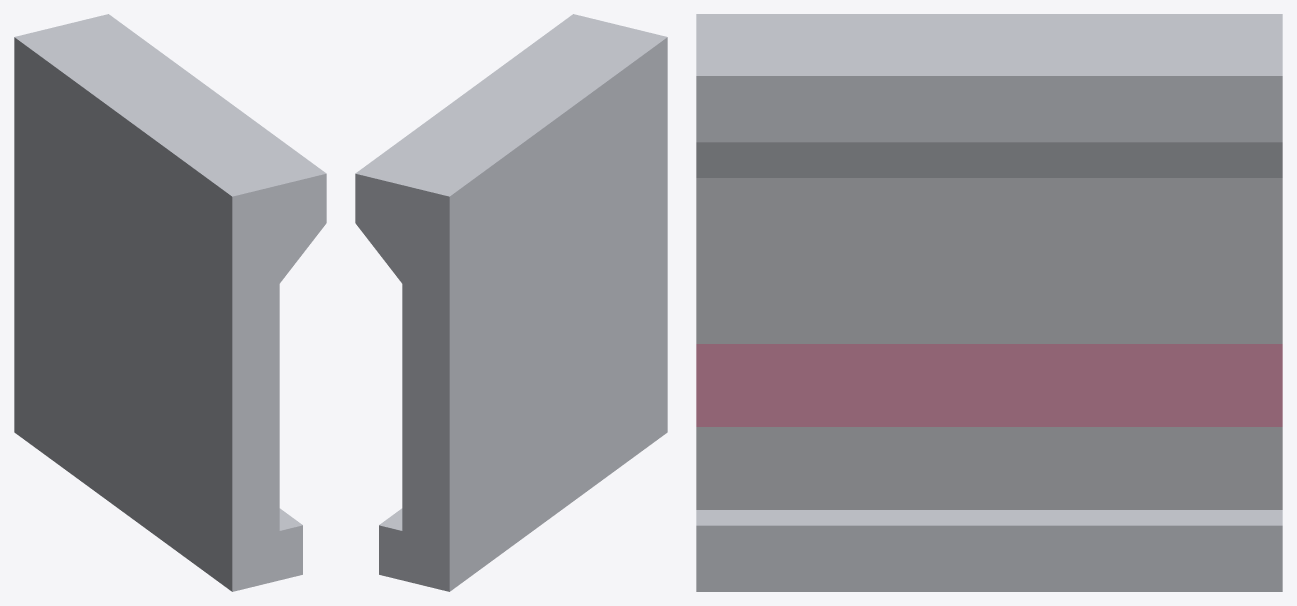
Rendered from object_007_stripe.glb.
3 renders of one model, left to right at view 1: azimuth 30°, elevation 25°; view 2: azimuth 150°, elevation 25°; view 3: azimuth 270°, elevation 25°, orthographic. The views are drawn at different scales.
Visible parts, largest first — view 1: object_007_stripe-col; view 2: object_007_stripe-col; view 3: object_007_stripe-col.
Boxes of the visible parts, box(x1,y1,x2,y2) form: object_007_stripe-col: box(14, 14, 326, 591); object_007_stripe-col: box(355, 14, 667, 591); object_007_stripe-col: box(696, 14, 1282, 591).
Bounding box in the file's own units: 0.25 × 1 × 1.
